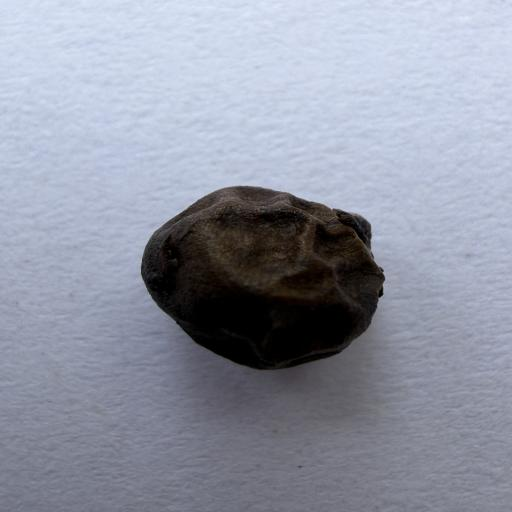Black_pepper: (127, 180, 394, 378)
